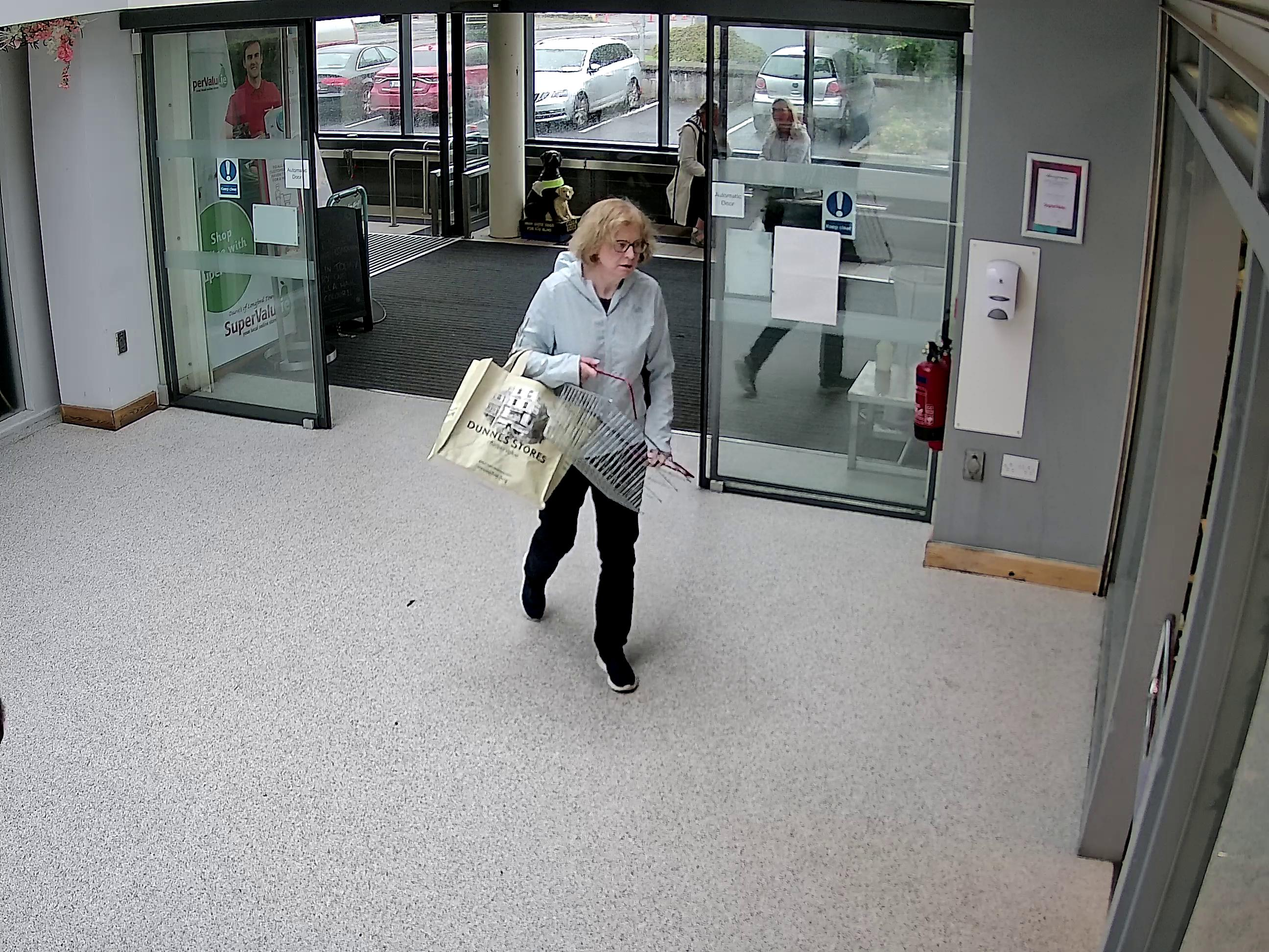empty-basket: (543, 360, 694, 517)
empty-shopping-bags: (428, 357, 594, 506)
person: (508, 197, 674, 691)
person-with-basket-trolly-and-shopping-bag: (426, 198, 694, 691)
